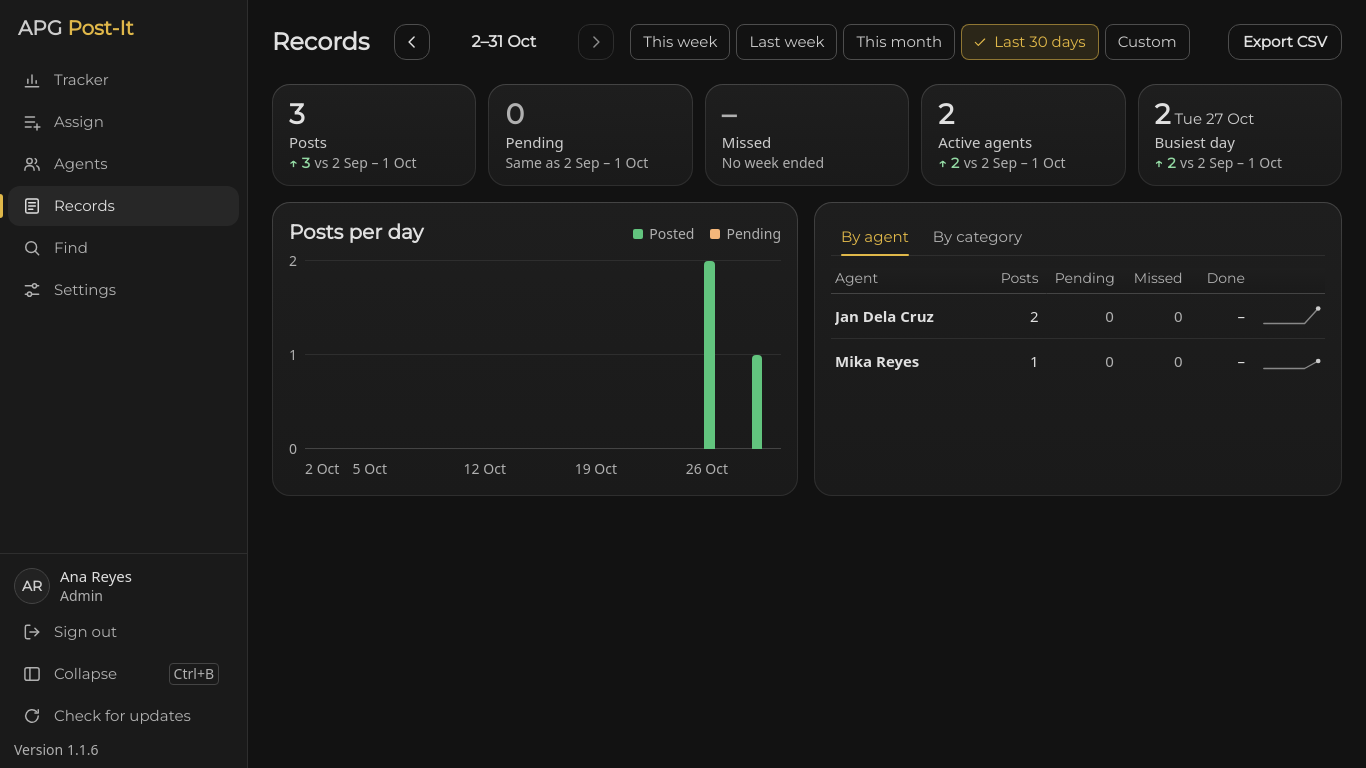
Test: the Records route › is in an admin’s nav, between Interns and Find, and copies the CSV on the desktop
The image size is (1366, 768).
Expected: the link "Records" is shown, [22,196,115,216]
Click the button "Export CSV".
click(1285, 42)  # box [1228,24,1342,60]
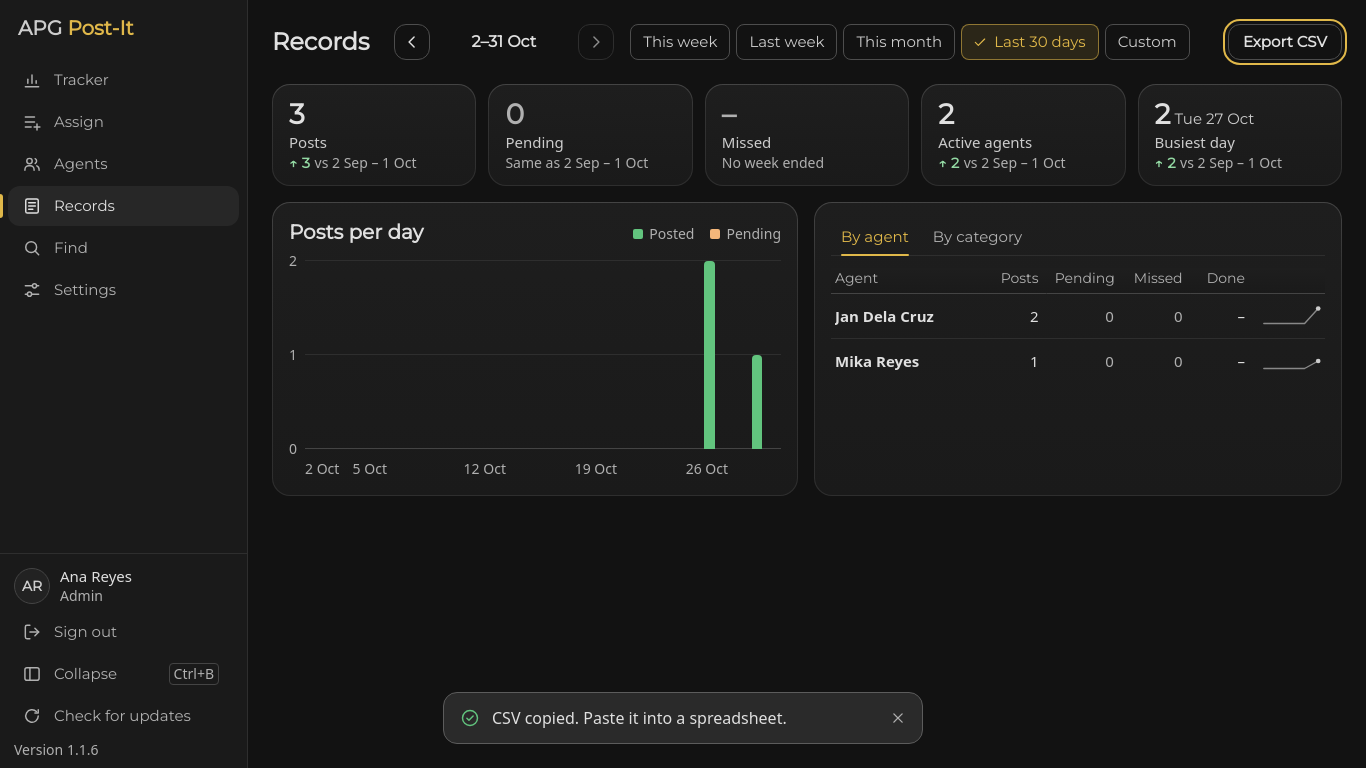
Expected: the text "CSV copied. Paste it into a spreadsheet." is shown, [492,707,787,729]
